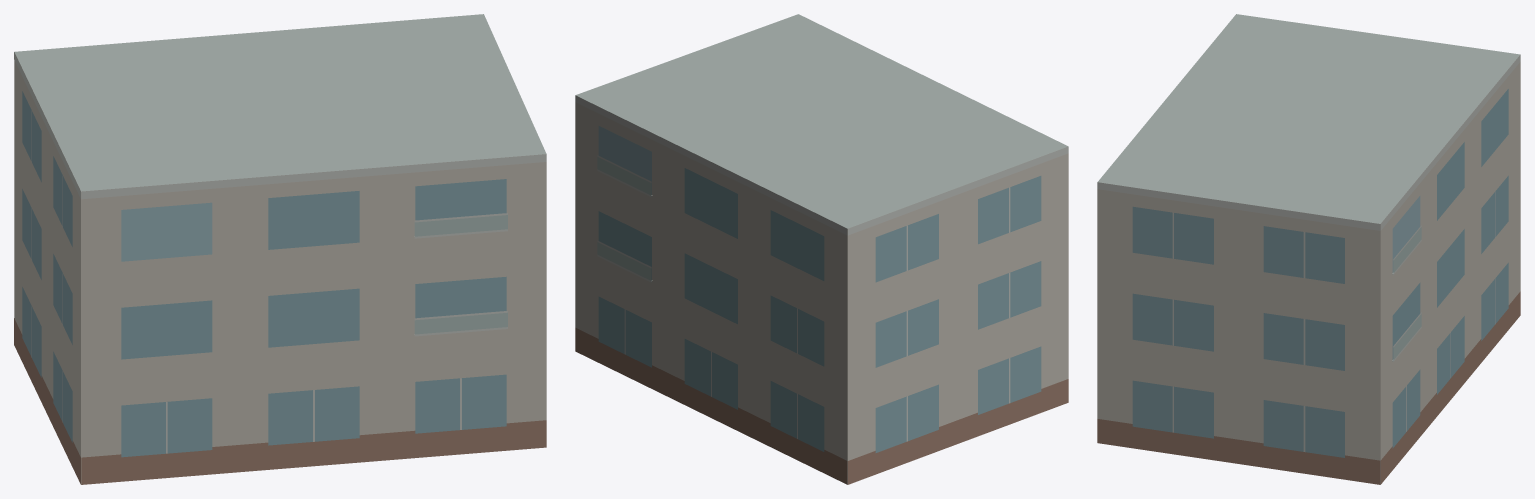
Rendered from survey-upis-32720688.glb.
3 renders of one model, left to right at view 1: azimuth 30°, elevation 25°; view 2: azimuth 150°, elevation 25°; view 3: azimuth 270°, elevation 25°, orthographic. The views are drawn at different scales.
Visible parts, largest first — view 1: survey-upis-32720688.tmp; view 2: survey-upis-32720688.tmp; view 3: survey-upis-32720688.tmp.
Boxes of the visible parts, bbox=[...] form: survey-upis-32720688.tmp: bbox=[14, 14, 546, 484]; survey-upis-32720688.tmp: bbox=[575, 14, 1068, 484]; survey-upis-32720688.tmp: bbox=[1097, 14, 1520, 484].
Bounding box in the file's own units: 15.81 × 9.15 × 13.46.
